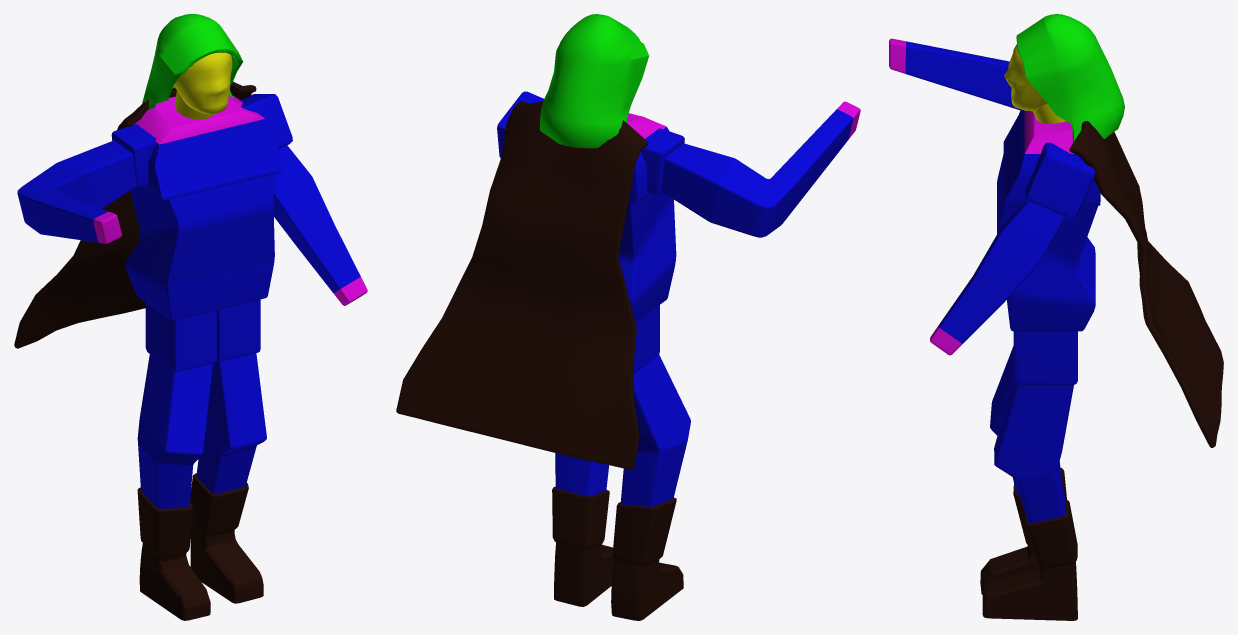
Rendered from Main_Character.fbx.
The picture shows the model from 3 angles, left to right: view 1: azimuth 30°, elevation 25°; view 2: azimuth 150°, elevation 25°; view 3: azimuth 270°, elevation 25°; orthographic projection. The views are drawn at different scales.
Visible parts, largest first — view 1: Main_Character; view 2: Main_Character; view 3: Main_Character.
Part boxes in pixels (bbox=[...]): Main_Character: bbox=[14, 14, 367, 620]; Main_Character: bbox=[396, 14, 860, 620]; Main_Character: bbox=[889, 14, 1223, 620].
Bounding box in the file's own units: 1.02 × 1.88 × 0.9677.
